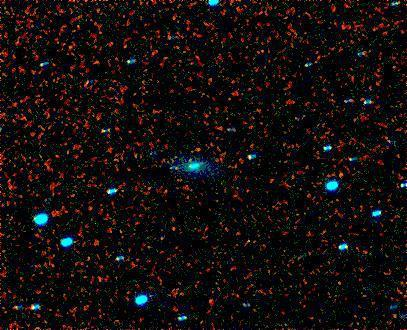star: (183, 134, 213, 164)
